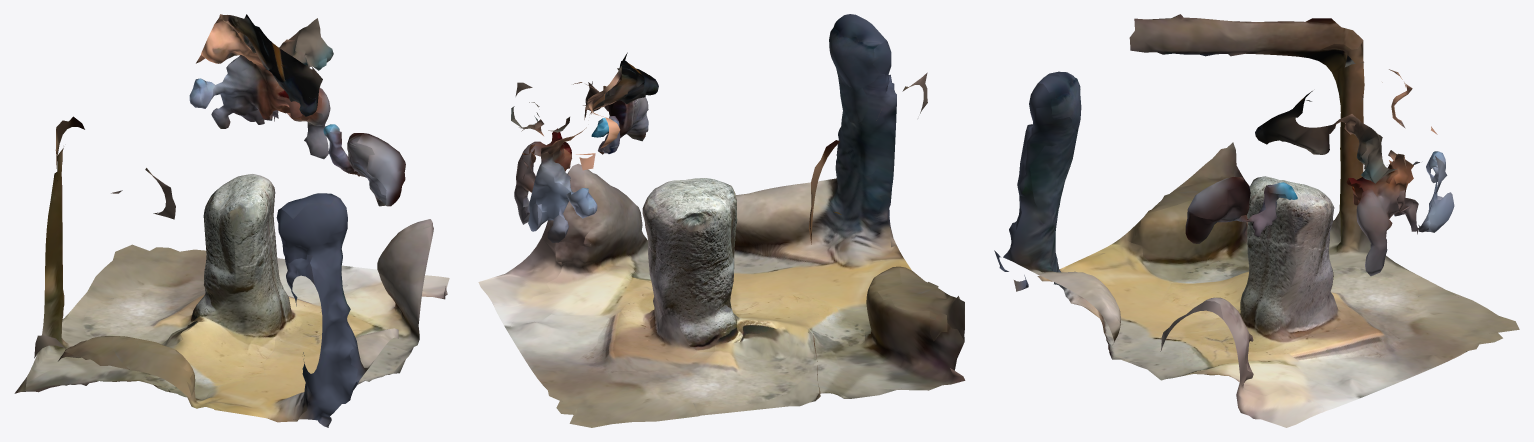
The picture shows the model from 3 angles, left to right: view 1: azimuth 30°, elevation 25°; view 2: azimuth 150°, elevation 25°; view 3: azimuth 270°, elevation 25°; orthographic projection. The views are drawn at different scales.
Parts seen in each view (by area): view 1: Object; view 2: Object; view 3: Object.
Part boxes in pixels (bbox=[...]): Object: bbox=[14, 14, 449, 427]; Object: bbox=[478, 14, 965, 427]; Object: bbox=[994, 14, 1519, 427].
Bounding box in the file's own units: 1.79 × 1.09 × 1.79.
1 material, 1 textured.
